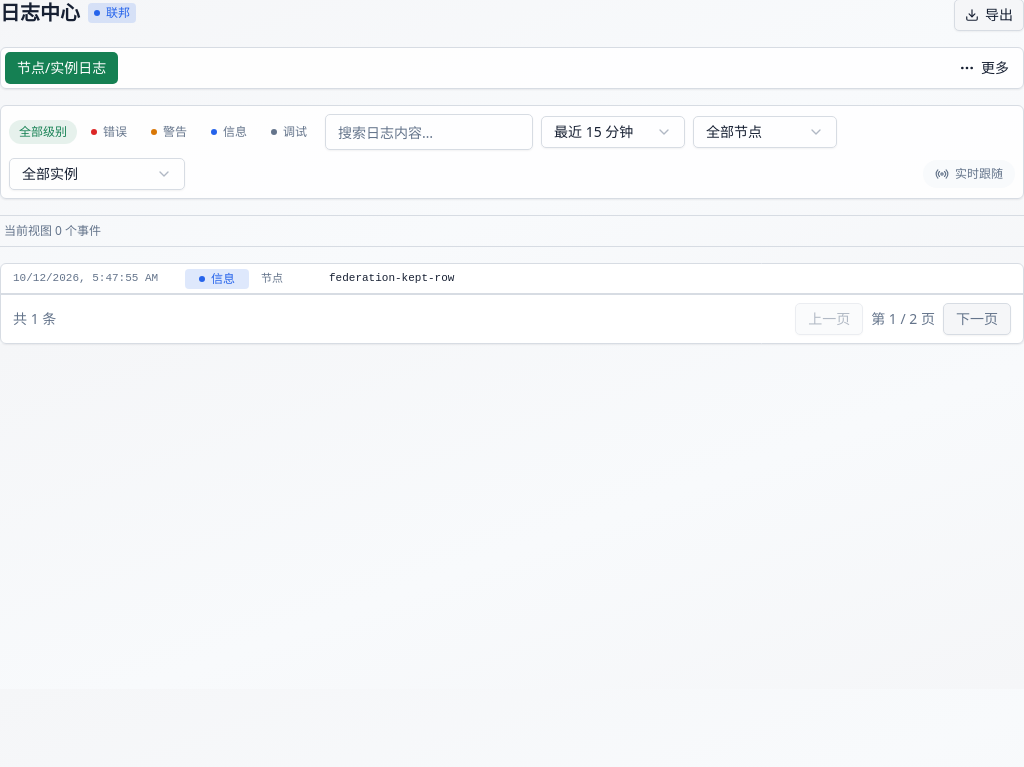
it: 日志中心限流保留与轮询节流（FR-482） › 切筛选后持续 429：不得把旧筛选的行冒充成新筛选的结果
This screenshot has width=1024, height=767.
Expected: the text "federation-kept-row" is shown, [329, 272, 454, 284]
Click the dropdown labelled "最近 15 分钟" at (613, 132), box [541, 116, 685, 148]
Wait 50 ms
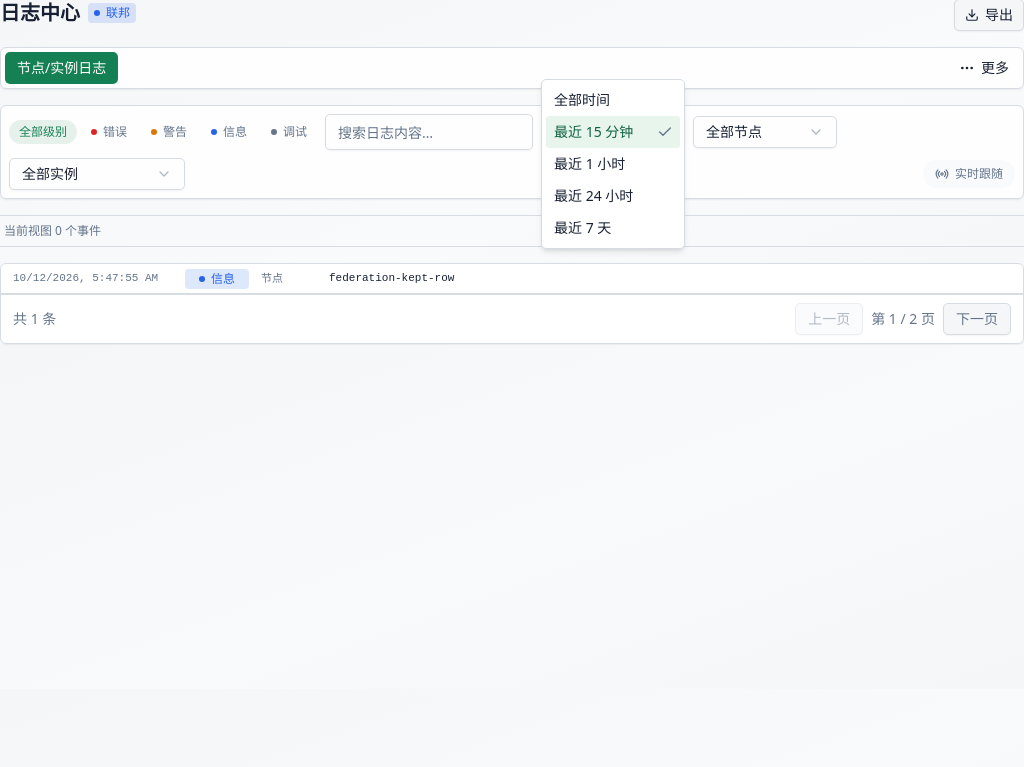
Click the option "最近 1 小时" at (590, 164), box [554, 154, 625, 173]
Wait 6050 ms
(page scrolled)
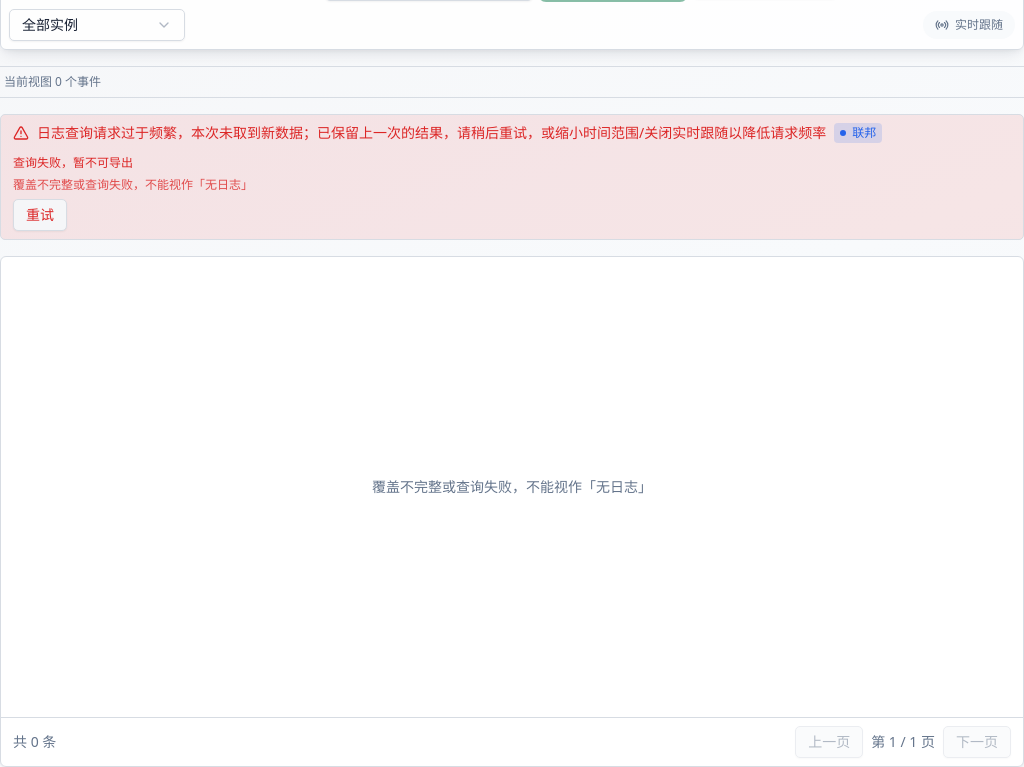
Expected: the text "federation-kept-row" is gone
